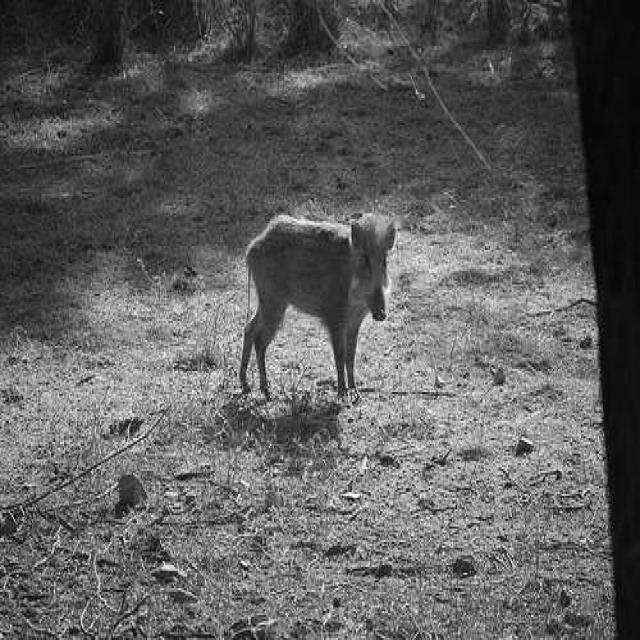boar: (239, 213, 397, 399)
